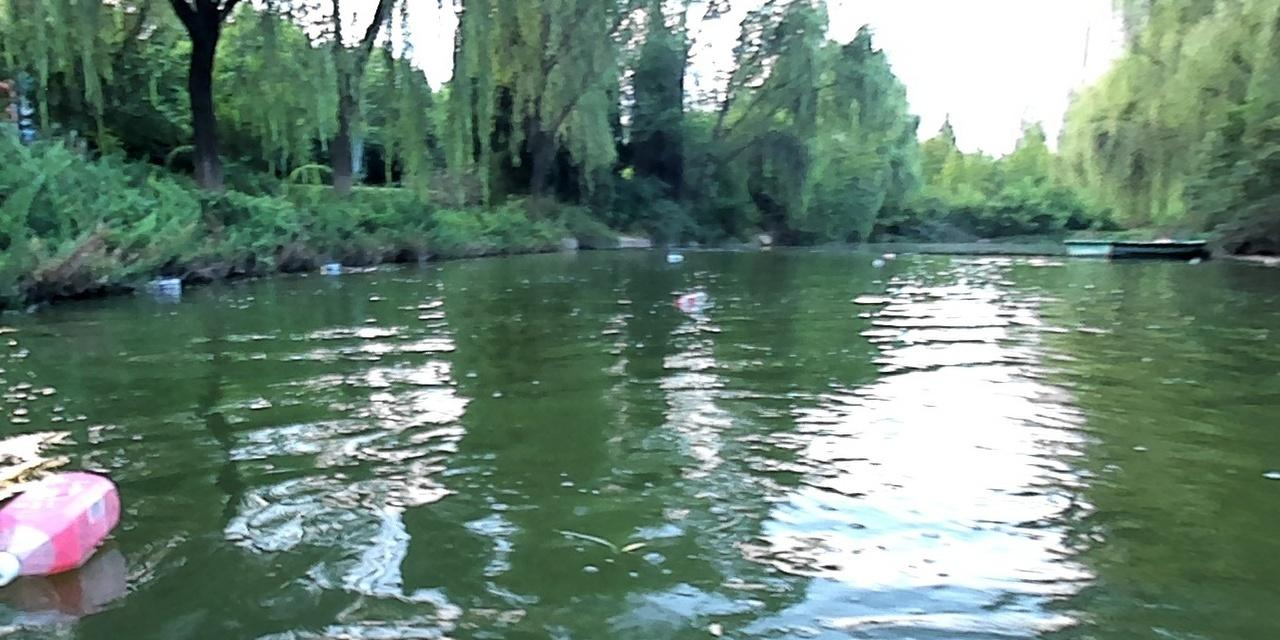bottle: (0, 467, 124, 585), (140, 273, 182, 297), (672, 288, 709, 311), (316, 261, 339, 274), (666, 252, 684, 263), (872, 254, 886, 267), (882, 250, 897, 261)
